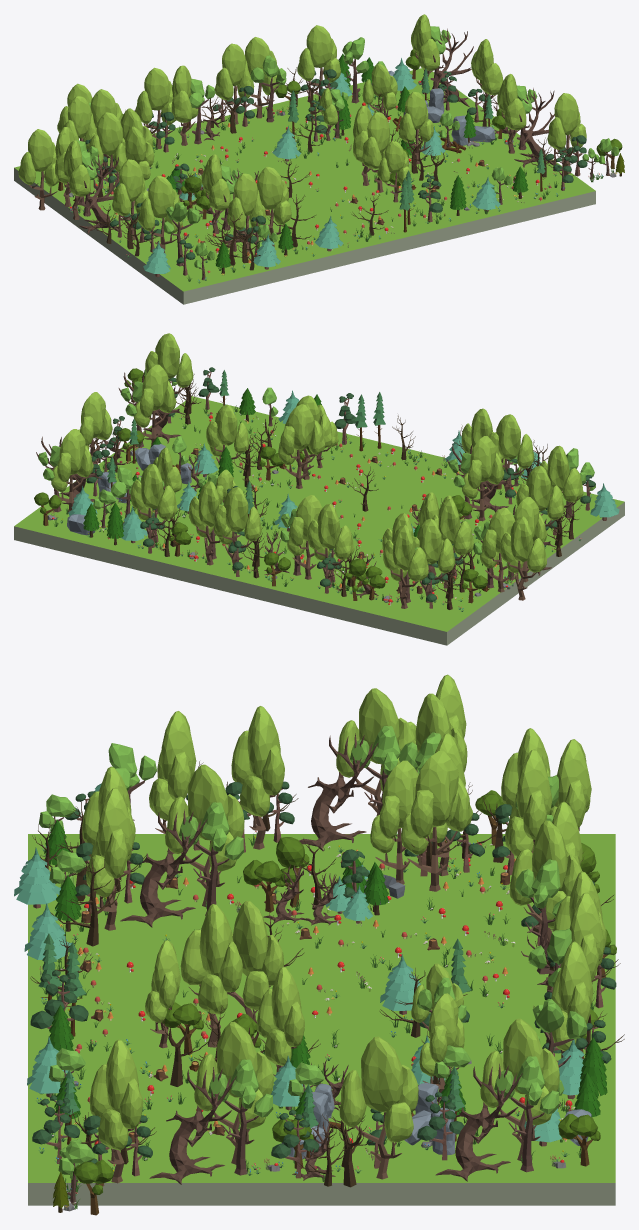
Rendered from Level_3_Mainworld.fbx.
3 views of the same model, one above another, from view 1: azimuth 30°, elevation 25°; view 2: azimuth 150°, elevation 25°; view 3: azimuth 270°, elevation 25° (orthographic). The views are drawn at different scales.
Visible parts, largest first — view 1: BG_Cube.016, Tree1.071, Tree1.053, Tree1.058, Tree1.069, Tree1.073, Tree1.076, Tree1.068, Tree1.055, Tree1.072, Tree1.078, Tree1.079 (+40 smaller); view 2: BG_Cube.016, Tree1.077, Tree1.071, Tree1.057, Tree1.055, Tree1.058, Tree1.053, Tree1.066, Tree1.064, Tree1.074, Tree1.072, Tree1.078 (+31 smaller); view 3: BG_Cube.016, Tree1.075, Tree1.062, Tree1.079, Tree1.076, Tree1.068, Tree1.074, Tree1.064, Tree1.066, Tree1.073, Tree1.077, Tree1.078 (+57 smaller).
Boxes of the visible parts, x1,y1,x2,y2 form: BG_Cube.016: (14, 68, 595, 304); Tree1.071: (18, 129, 59, 210); Tree1.053: (297, 25, 340, 105); Tree1.058: (135, 67, 176, 148); Tree1.069: (138, 175, 182, 252); Tree1.073: (248, 166, 291, 246); Tree1.076: (547, 93, 586, 173); Tree1.068: (112, 159, 148, 239); Tree1.055: (214, 43, 254, 124); Tree1.072: (227, 173, 266, 253); Tree1.078: (398, 91, 433, 164); Tree1.079: (362, 112, 391, 192); BG_Cube.016: (14, 396, 624, 645); Tree1.077: (278, 404, 325, 488); Tree1.071: (500, 516, 546, 600); Tree1.057: (383, 525, 428, 608); Tree1.055: (213, 487, 261, 570); Tree1.058: (307, 504, 354, 587); Tree1.053: (130, 464, 177, 547); Tree1.066: (462, 436, 504, 521); Tree1.064: (51, 429, 93, 513); Tree1.074: (133, 364, 176, 447); Tree1.072: (489, 414, 534, 498); Tree1.078: (206, 404, 249, 463); BG_Cube.016: (28, 834, 615, 1205); Tree1.075: (339, 1036, 418, 1179); Tree1.062: (401, 751, 472, 891); Tree1.079: (180, 904, 242, 1047); Tree1.076: (89, 1039, 143, 1183); Tree1.068: (231, 706, 284, 849); Tree1.074: (194, 1021, 273, 1164); Tree1.064: (480, 1018, 559, 1161); Tree1.066: (165, 764, 244, 906); Tree1.073: (86, 787, 133, 930); Tree1.077: (228, 901, 283, 1039); Tree1.078: (257, 966, 304, 1075).
Size of the model in its own units: 13265 by 2360 by 8111.
